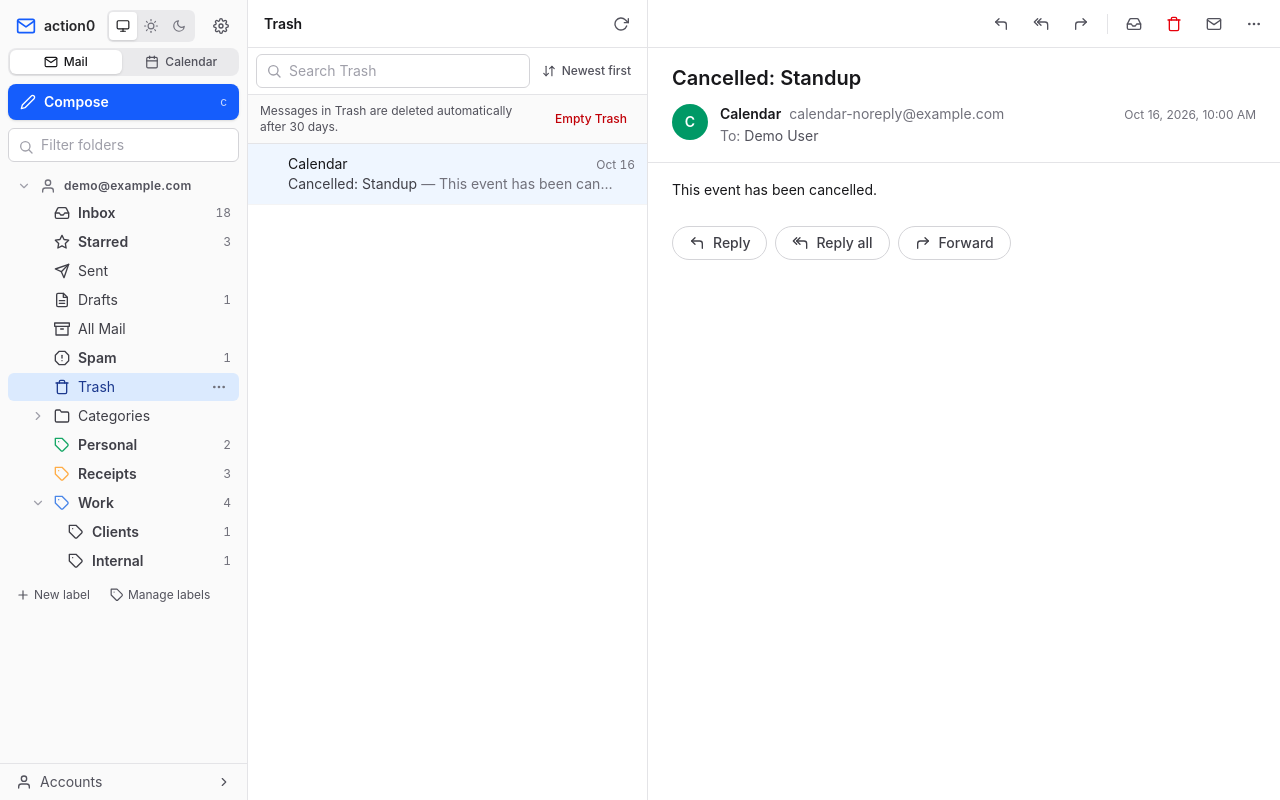
Scenario: delete forever › asks first, with Cancel as the default, and can't be undone
Type keys "{Shift>}{Delete}{/Shift}"
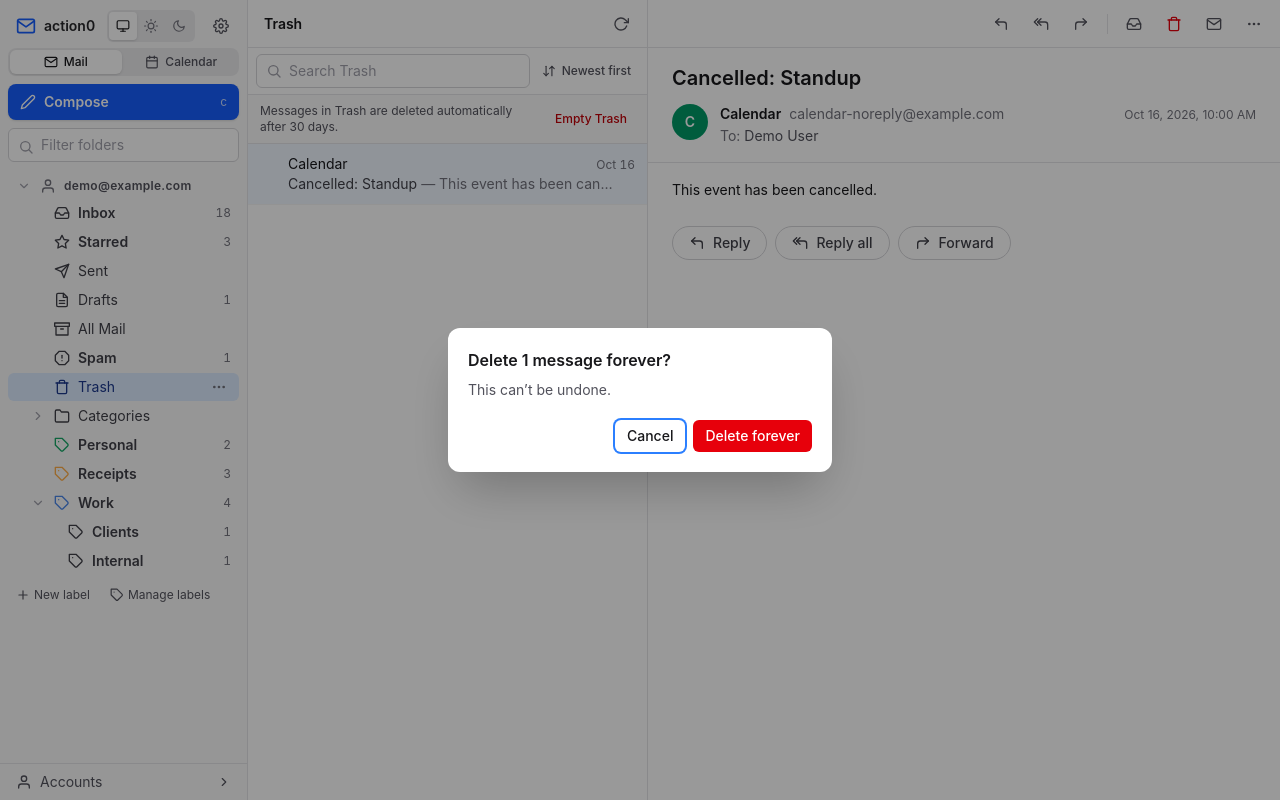
# Enter activates the focused Cancel button.
Press Enter
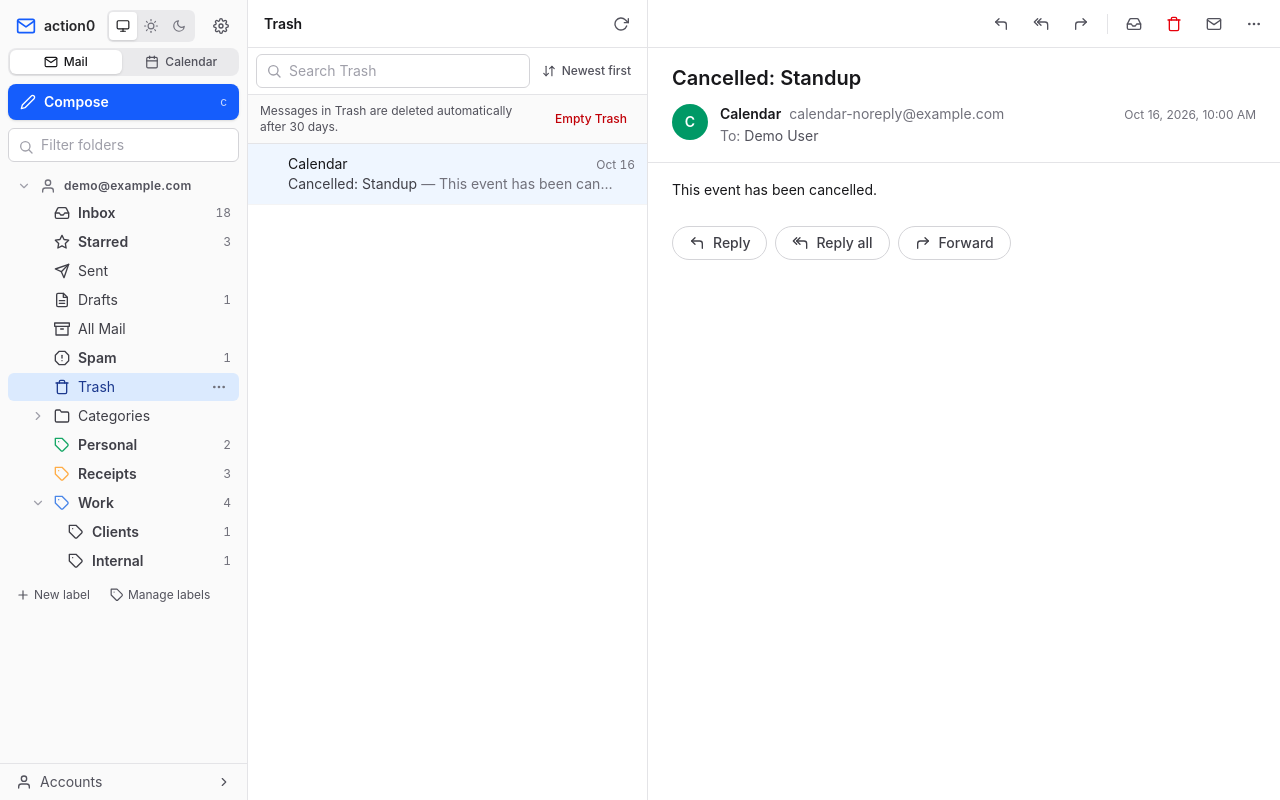
Expected: the option "Cancelled: Standup" is shown, [248,144,647,205]
Expected: the dialog is gone
Click the button named "Delete forever (Shift+Delete)": (1174, 24) [1156,6,1192,42]
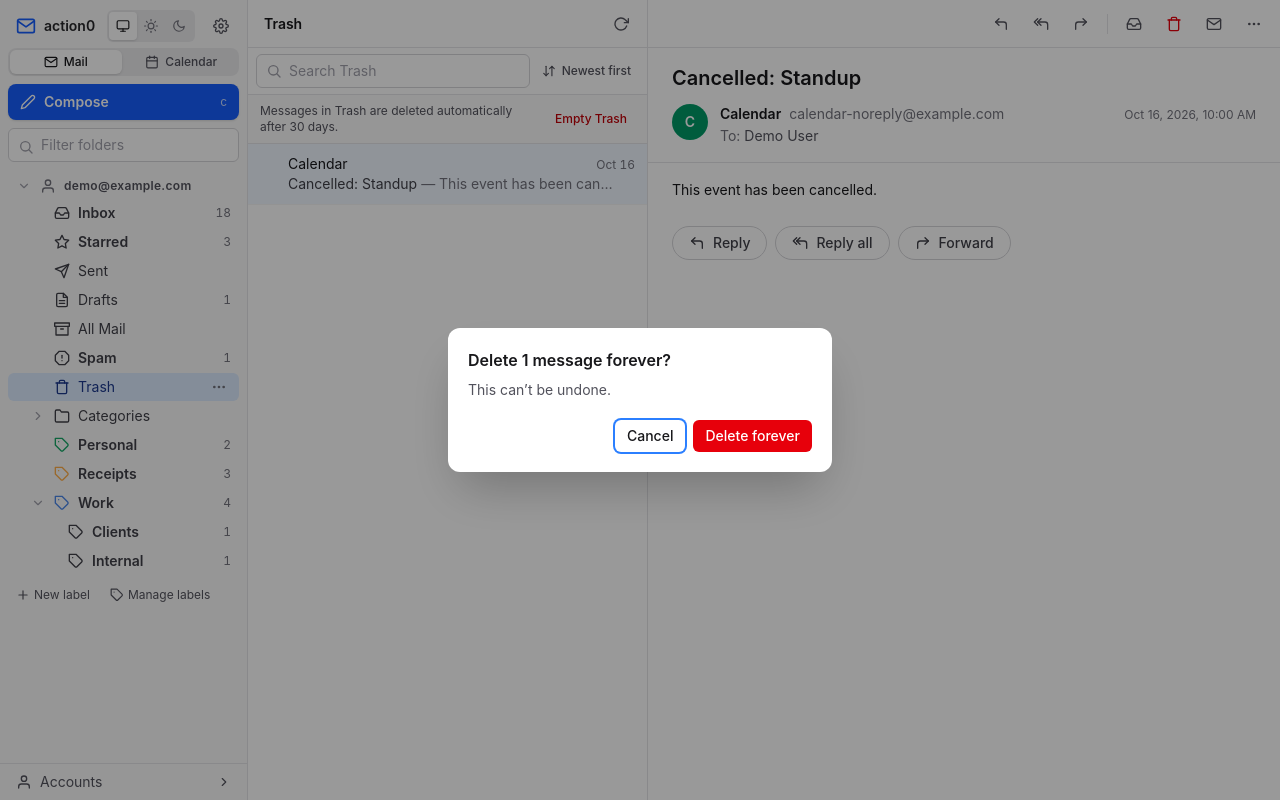
Click the button "Delete forever": (753, 436) [693,420,812,452]
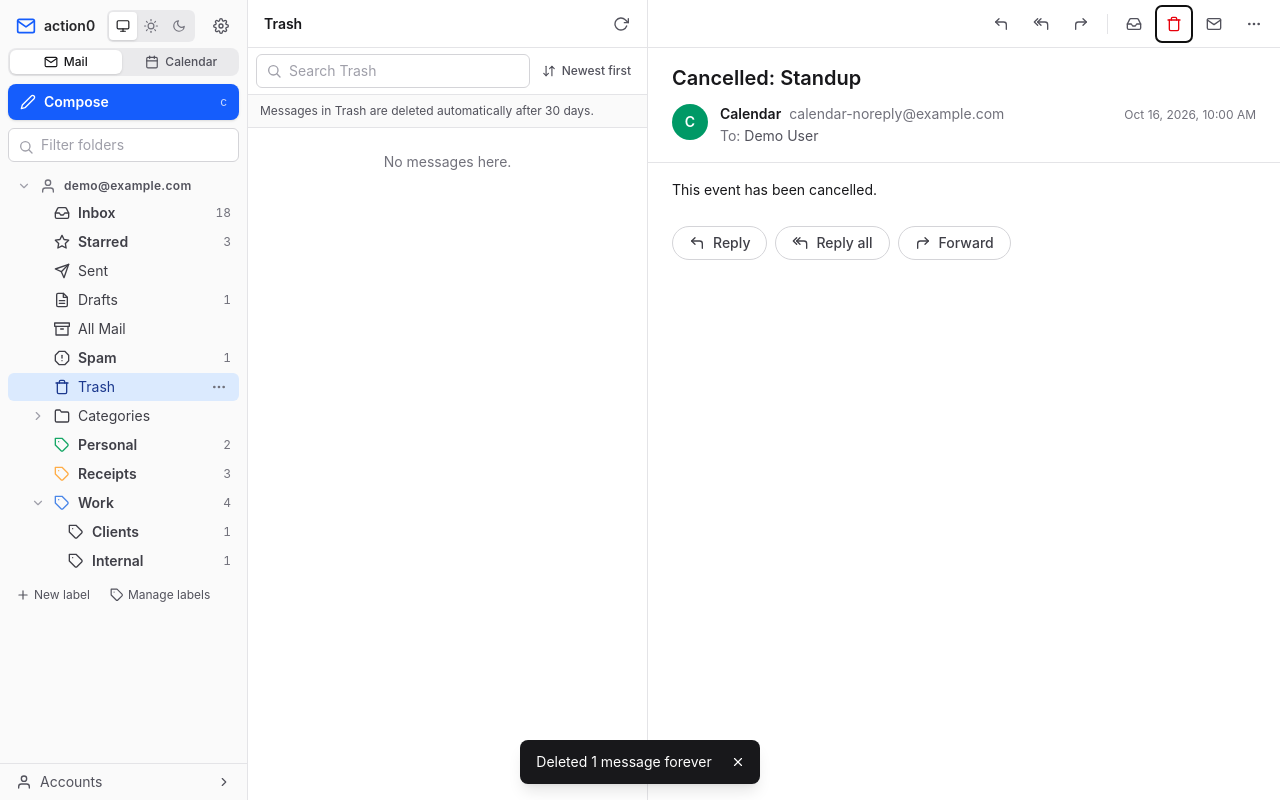
Expected: the text "Deleted 1 message forever" is shown, [536,752,712,772]
Expected: the text "undo" is gone
